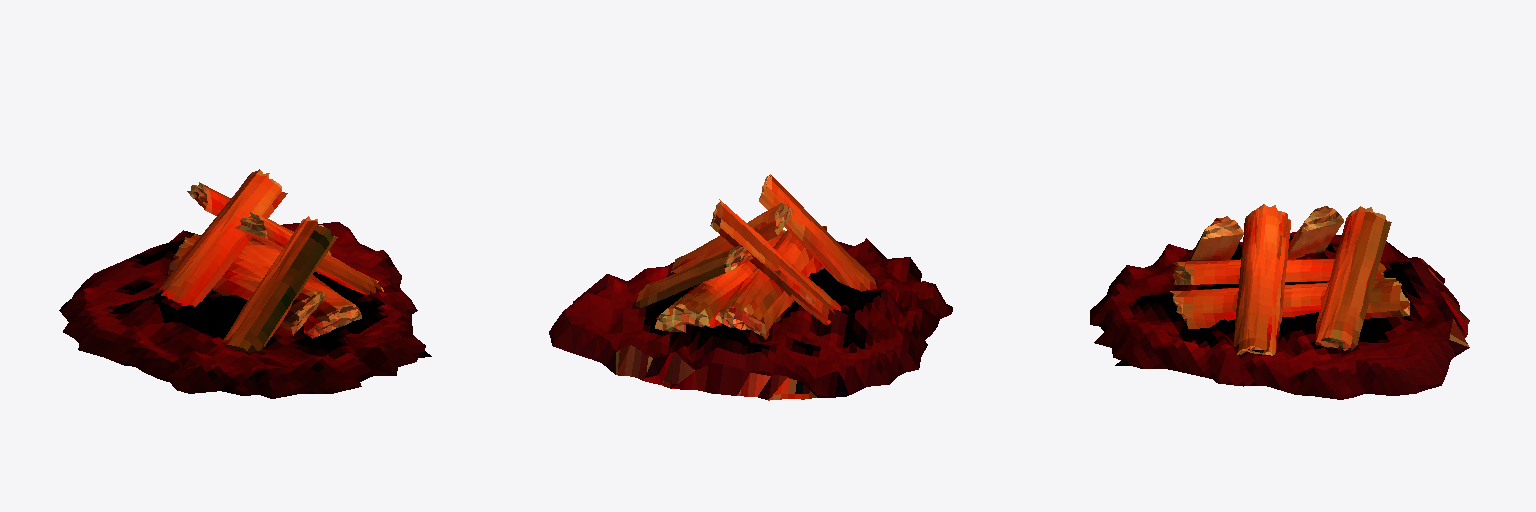
3 renders of one model, left to right at view 1: azimuth 30°, elevation 25°; view 2: azimuth 150°, elevation 25°; view 3: azimuth 270°, elevation 25°, orthographic.
Visible parts, largest first — view 1: Cylinder.001_Cylinder.010; view 2: Cylinder.001_Cylinder.010; view 3: Cylinder.001_Cylinder.010.
Boxes of the visible parts, x1,y1,x2,y2 form: Cylinder.001_Cylinder.010: [59, 169, 431, 398]; Cylinder.001_Cylinder.010: [549, 174, 952, 400]; Cylinder.001_Cylinder.010: [1090, 204, 1469, 399].
Size of the model in its own units: 0.8171 by 0.3025 by 0.8185.
1 materials, 1 textured.